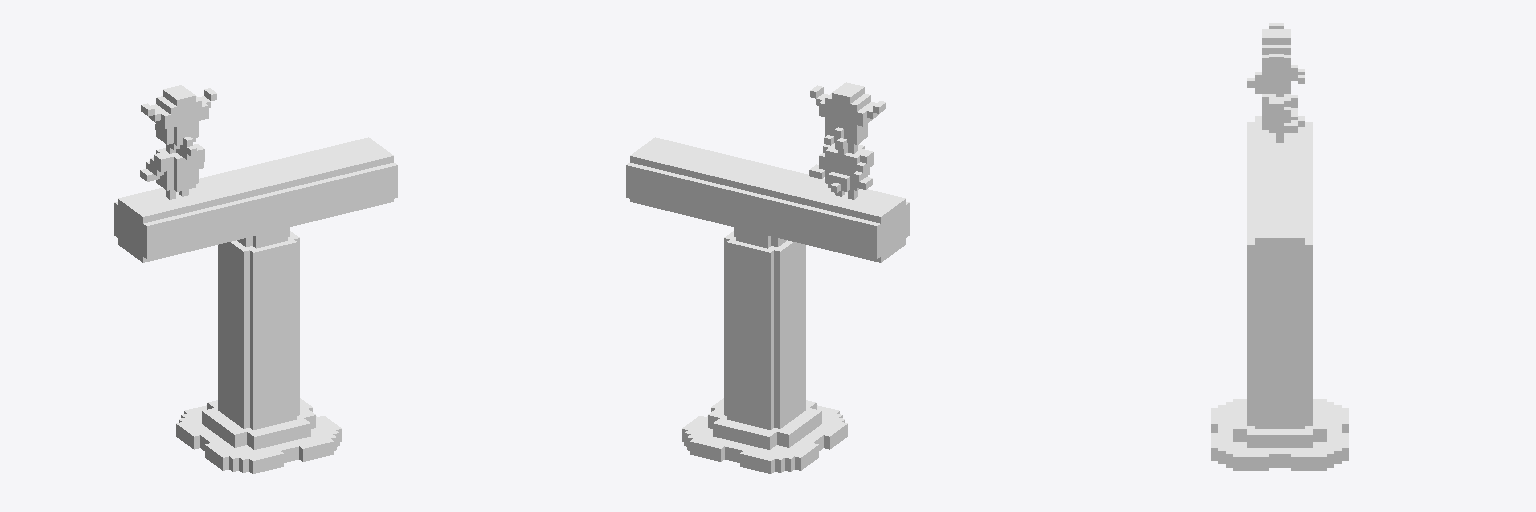
File: railing_parrot.obj
3 renders of one model, left to right at view 1: azimuth 30°, elevation 25°; view 2: azimuth 150°, elevation 25°; view 3: azimuth 270°, elevation 25°, orthographic.
Size of the model in its own units: 40 by 56 by 19.